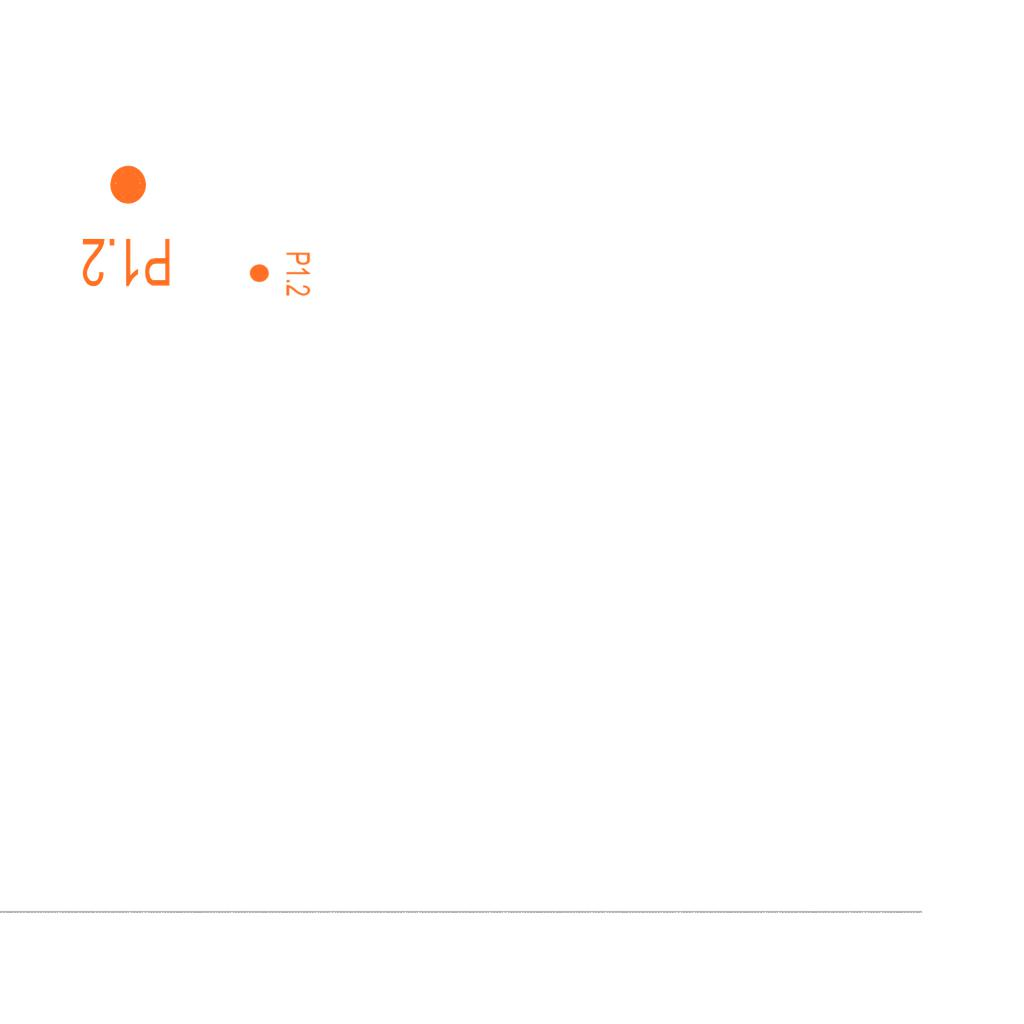Downlight_LED_Einbauleuchten_Flur: (80, 162, 173, 290), (248, 251, 312, 297)
